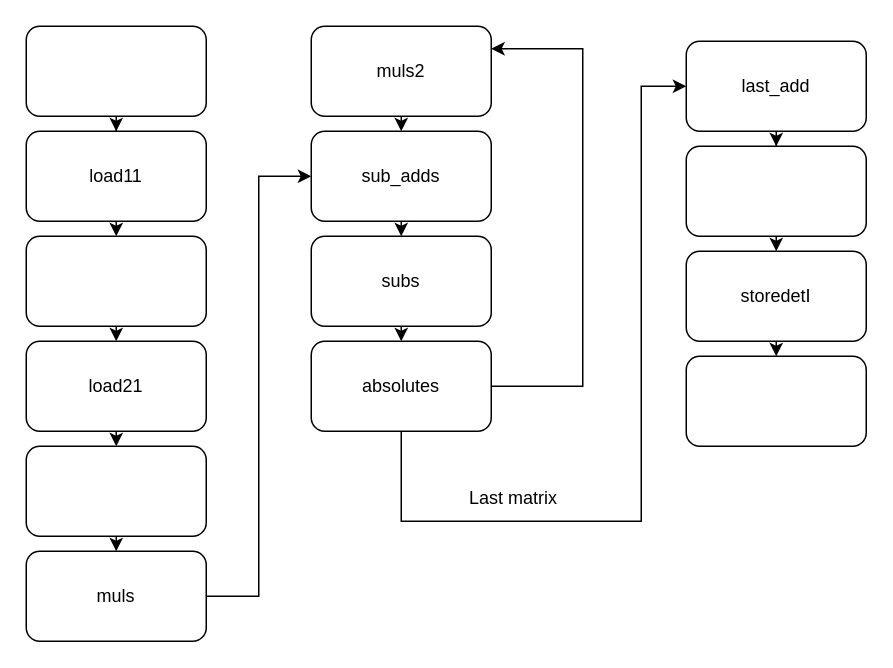
The diagram is 893 pixels wide and 668 high, and some of its shapes have lost their labels. The centre of each missing label's shape, as x and y in pixels:
done: point 775,400
load12: point 115,280
load22: point 115,490
Start: point 115,70
storedetR: point 775,190
